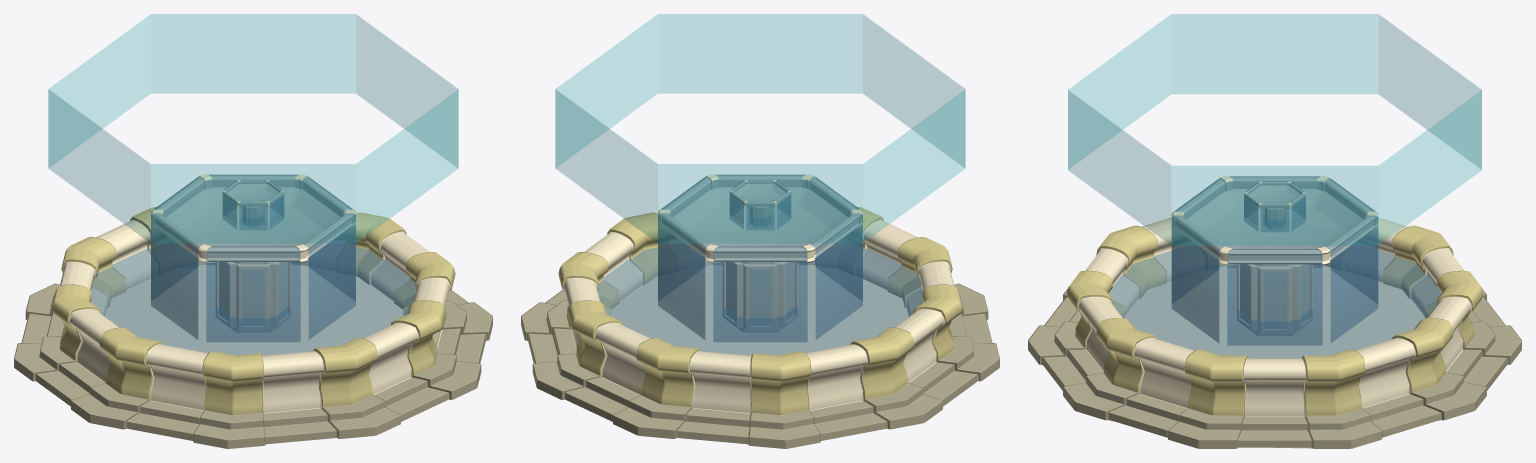
File: Artefak Air Mancur Hologram Stylized.fbx
3 views of the same model, side by side, from view 1: azimuth 30°, elevation 25°; view 2: azimuth 150°, elevation 25°; view 3: azimuth 270°, elevation 25° (orthographic).
Visible parts, largest first — view 1: Fountain_Base, Hologram Display, Fountain_WaterfallBottom, Fountain_Water, Fountain_Pillar, Fountain_WaterfallTop; view 2: Fountain_Base, Hologram Display, Fountain_WaterfallBottom, Fountain_Water, Fountain_Pillar, Fountain_WaterfallTop; view 3: Fountain_Base, Hologram Display, Fountain_WaterfallBottom, Fountain_Water, Fountain_Pillar, Fountain_WaterfallTop.
Boxes of the visible parts, <box> form: Fountain_Base: <box>14,207,492,448</box>; Hologram Display: <box>48,14,458,243</box>; Fountain_WaterfallBottom: <box>151,174,355,342</box>; Fountain_Water: <box>91,247,415,355</box>; Fountain_Pillar: <box>151,174,355,332</box>; Fountain_WaterfallTop: <box>222,180,284,229</box>; Fountain_Base: <box>521,207,999,448</box>; Hologram Display: <box>555,14,965,243</box>; Fountain_WaterfallBottom: <box>658,174,862,342</box>; Fountain_Water: <box>598,247,922,355</box>; Fountain_Pillar: <box>658,174,862,332</box>; Fountain_WaterfallTop: <box>729,180,791,229</box>; Fountain_Base: <box>1028,217,1521,448</box>; Hologram Display: <box>1068,14,1481,245</box>; Fountain_WaterfallBottom: <box>1171,176,1378,345</box>; Fountain_Water: <box>1108,251,1441,358</box>; Fountain_Pillar: <box>1171,175,1378,335</box>; Fountain_WaterfallTop: <box>1244,181,1305,231</box>.
Size of the model in its own units: 239 by 146 by 251.
